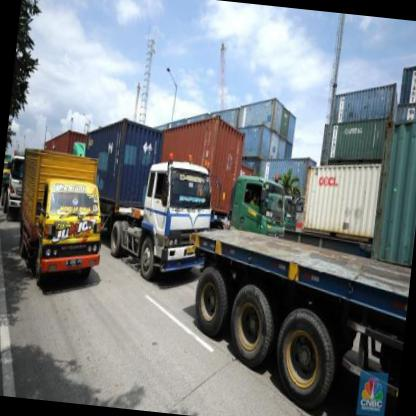truck: (137, 160, 217, 290), (33, 174, 108, 297)
